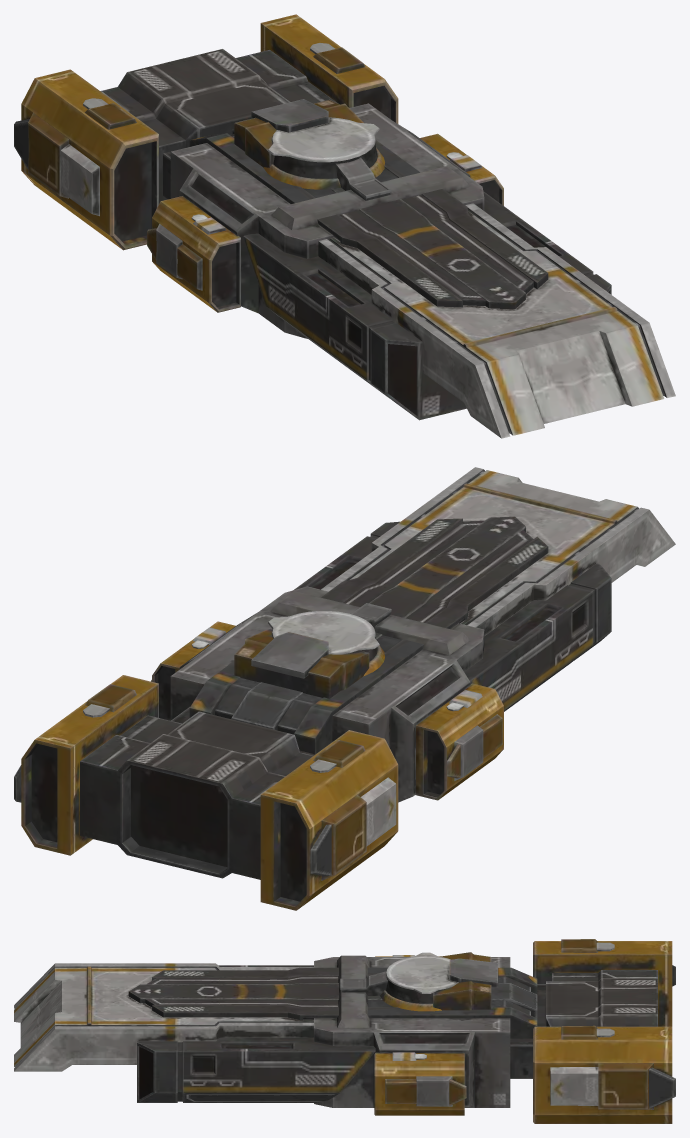
File: imperial.gltf
3 views of the same model, one above another, from view 1: azimuth 30°, elevation 25°; view 2: azimuth 150°, elevation 25°; view 3: azimuth 270°, elevation 25° (orthographic). The views are drawn at different scales.
Parts seen in each view (by area): view 1: Imperial; view 2: Imperial; view 3: Imperial.
Part boxes in pixels (x1,y1,x2,y2): Imperial: (14, 14, 675, 438); Imperial: (14, 467, 675, 910); Imperial: (14, 939, 675, 1123).
Bounding box in the file's own units: 7.73 × 3.3 × 18.55.
1 material, 1 textured.
